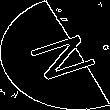N_NE: (13, 27, 97, 83)
